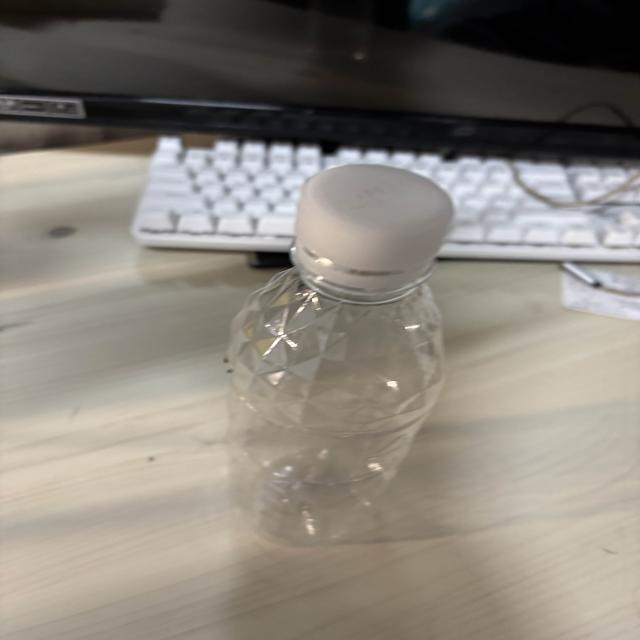Plastic: (184, 147, 512, 559)
